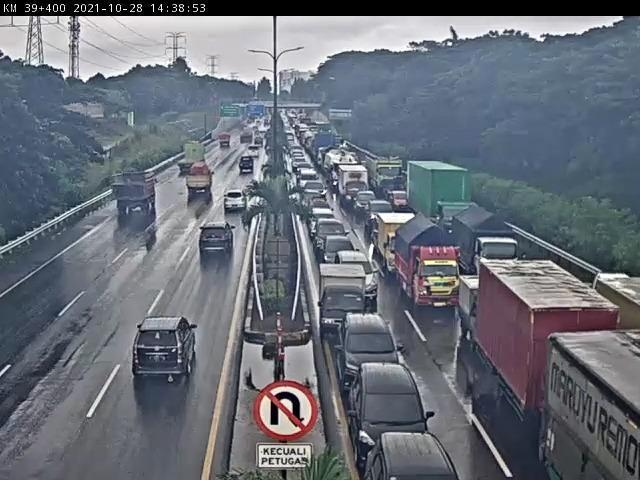car: (350, 366, 437, 465), (336, 315, 400, 399), (131, 317, 200, 386), (365, 434, 462, 480), (337, 253, 382, 303), (321, 237, 362, 278), (313, 220, 351, 259), (200, 222, 238, 258), (368, 200, 396, 232), (311, 208, 336, 238), (302, 190, 325, 222), (298, 170, 320, 197), (225, 191, 250, 212), (357, 193, 378, 218), (247, 146, 263, 161), (253, 138, 265, 149)
truck: (480, 260, 627, 447), (395, 217, 464, 314), (406, 160, 478, 248), (450, 205, 516, 281), (460, 275, 523, 352), (318, 262, 370, 338), (378, 213, 421, 278), (112, 172, 160, 216), (175, 142, 209, 181), (340, 166, 370, 208), (188, 164, 219, 202), (236, 158, 256, 178), (240, 124, 256, 143), (216, 135, 232, 152)
